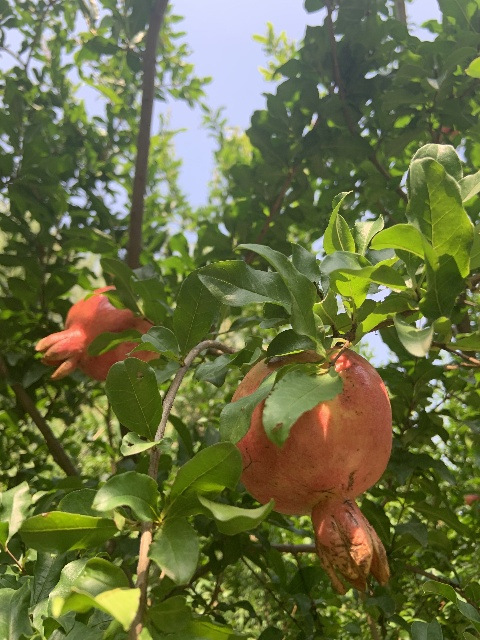ripe: (230, 345, 392, 595), (35, 285, 158, 381)
